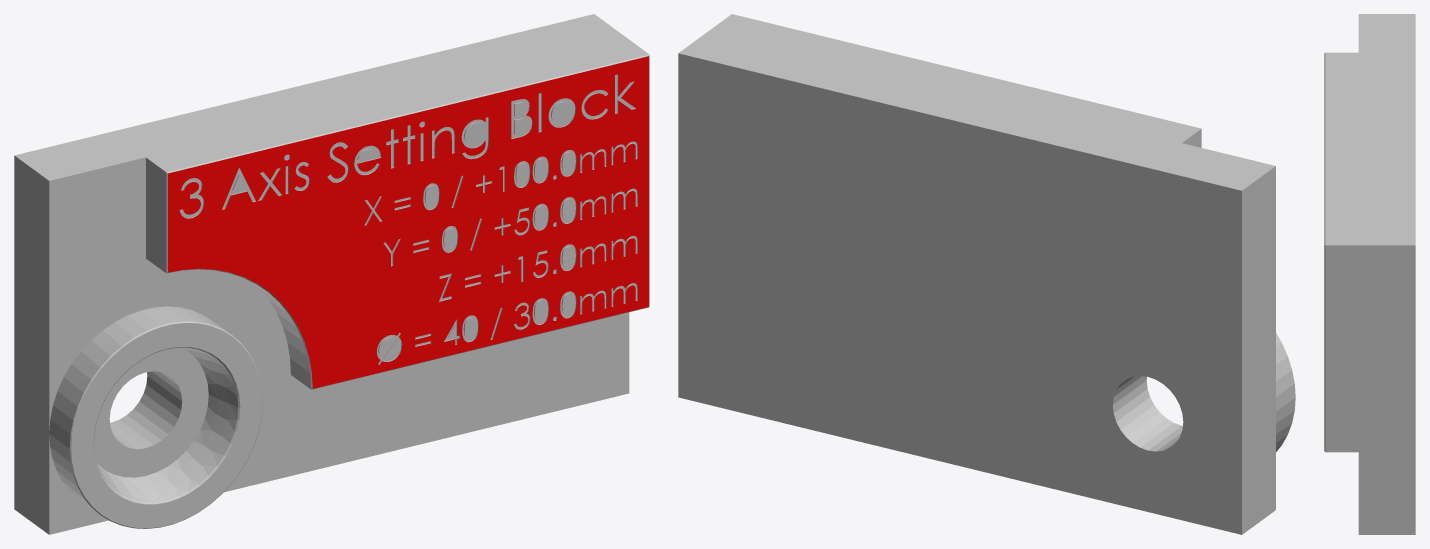
Rendered from TESTE_M3_SF_stp_800.obj.
3 renders of one model, left to right at view 1: azimuth 30°, elevation 25°; view 2: azimuth 150°, elevation 25°; view 3: azimuth 270°, elevation 25°, orthographic. The views are drawn at different scales.
Visible parts, largest first — view 1: Object1; view 2: Object1; view 3: Object1.
Boxes of the visible parts, x1,y1,x2,y2 form: Object1: (14, 14, 649, 534); Object1: (678, 14, 1295, 534); Object1: (1324, 14, 1415, 534).
Bounding box in the file's own units: 120 × 70 × 20.
